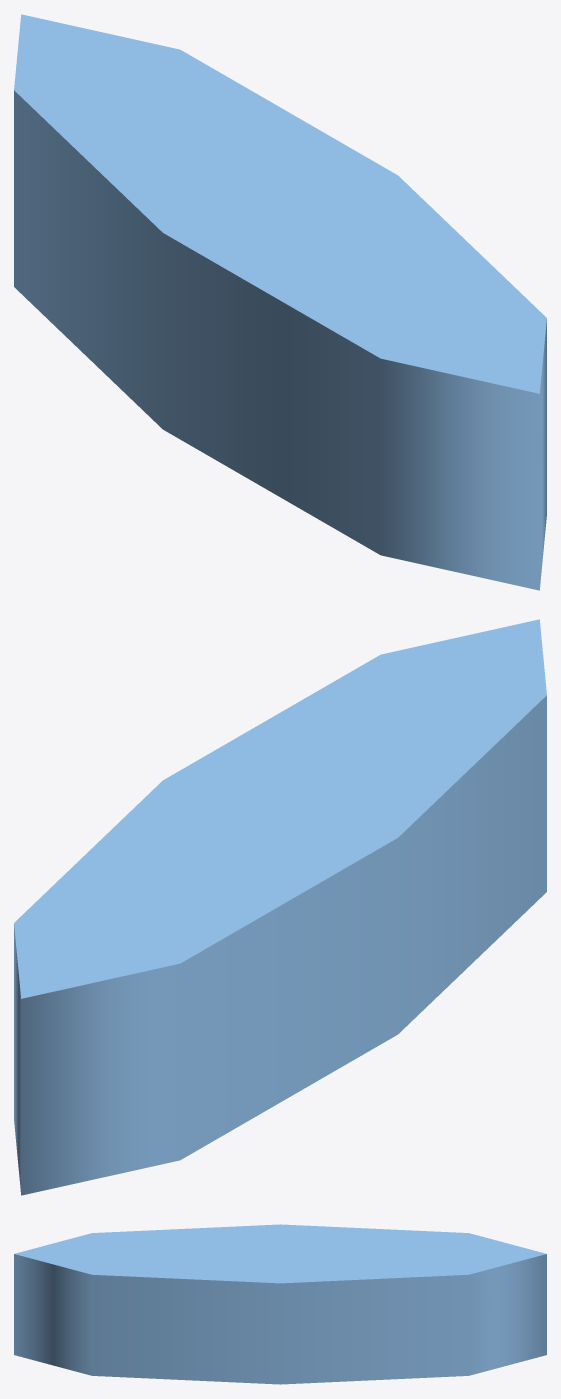
3 views of the same model, one above another, from view 1: azimuth 30°, elevation 25°; view 2: azimuth 150°, elevation 25°; view 3: azimuth 270°, elevation 25° (orthographic). The views are drawn at different scales.
Parts seen in each view (by area): view 1: Cylinder; view 2: Cylinder; view 3: Cylinder.
Part boxes in pixels (x1=…): Cylinder: x1=14, y1=14, x2=546, y2=590; Cylinder: x1=14, y1=619, x2=546, y2=1195; Cylinder: x1=14, y1=1224, x2=546, y2=1384.
Size of the model in its own units: 1.55 by 1.24 by 5.93.
